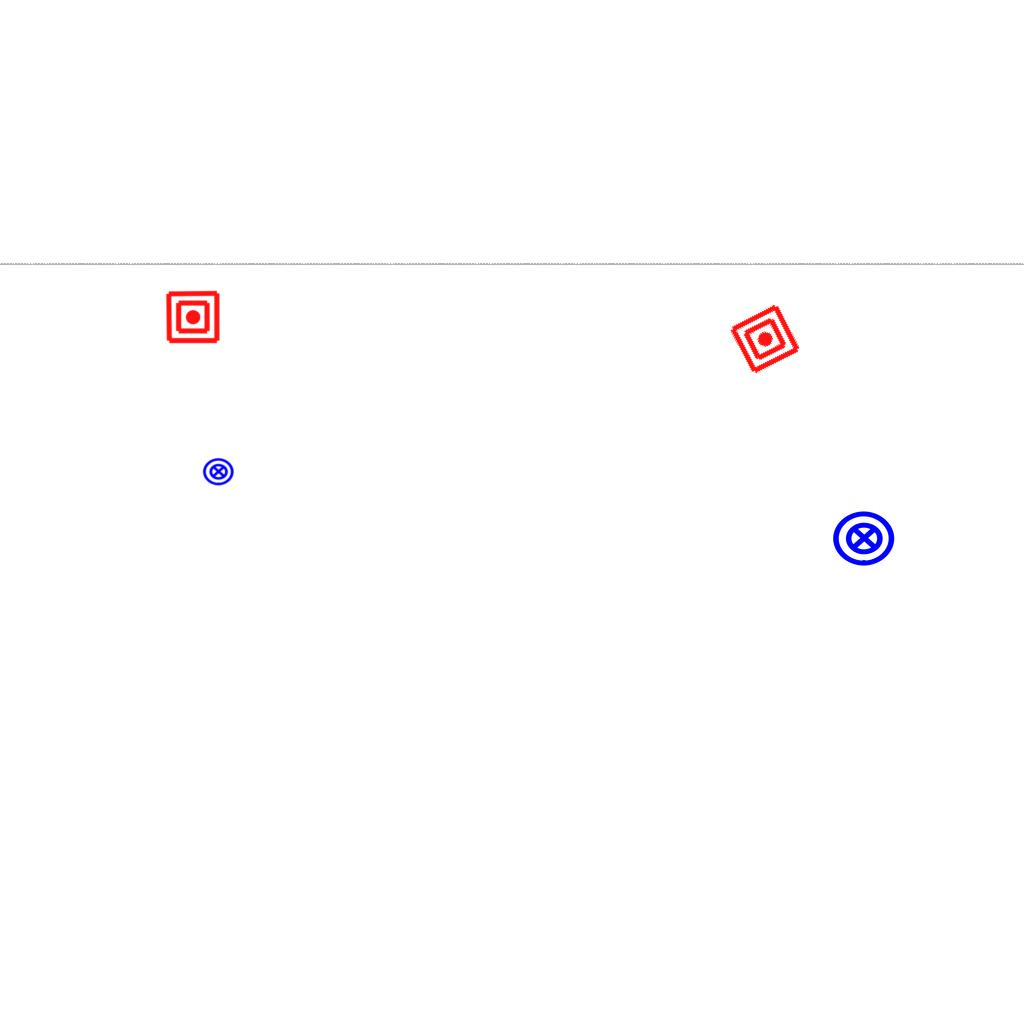NAM-Nichtautomatischer_Melder: (727, 301, 803, 377), (165, 289, 221, 345)
Taster_beleuchtet: (831, 505, 897, 571), (202, 455, 235, 488)
